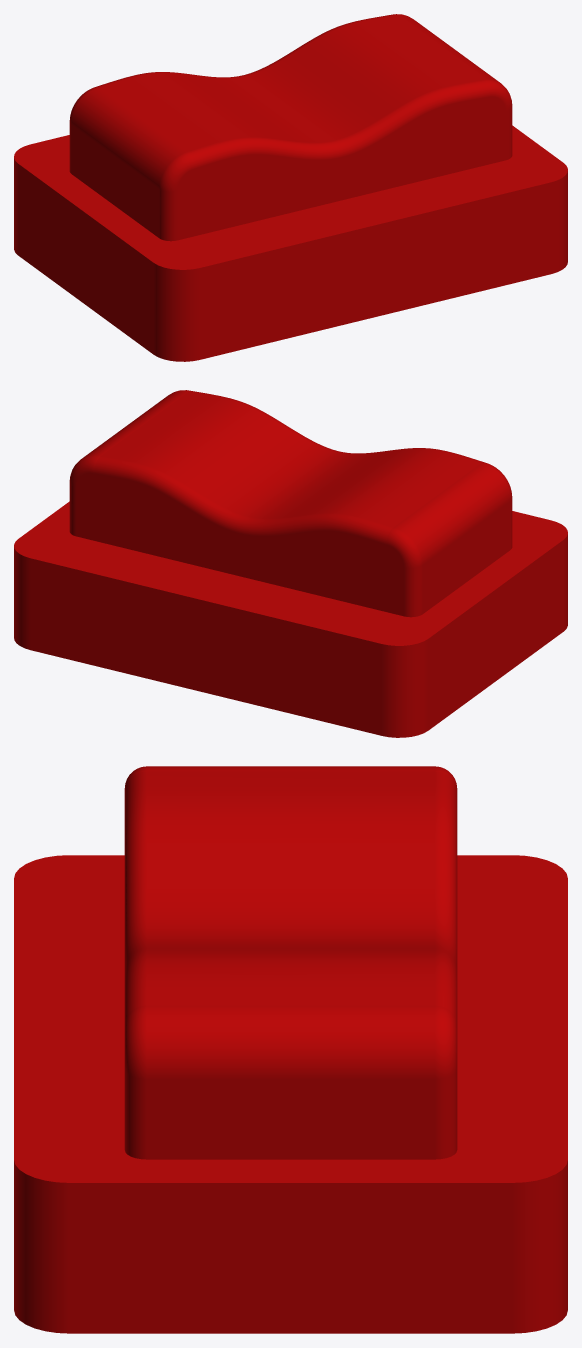
Rendered from slider.glb.
The picture shows the model from 3 angles, top to bottom: view 1: azimuth 30°, elevation 25°; view 2: azimuth 150°, elevation 25°; view 3: azimuth 270°, elevation 25°; orthographic projection. The views are drawn at different scales.
Parts seen in each view (by area): view 1: Slider; view 2: Slider; view 3: Slider.
Boxes of the visible parts, x1,y1,x2,y2 form: Slider: (14,14,567,361); Slider: (14,390,567,737); Slider: (14,766,567,1333).
Size of the model in its own units: 0.07 by 0.0283 by 0.05.
